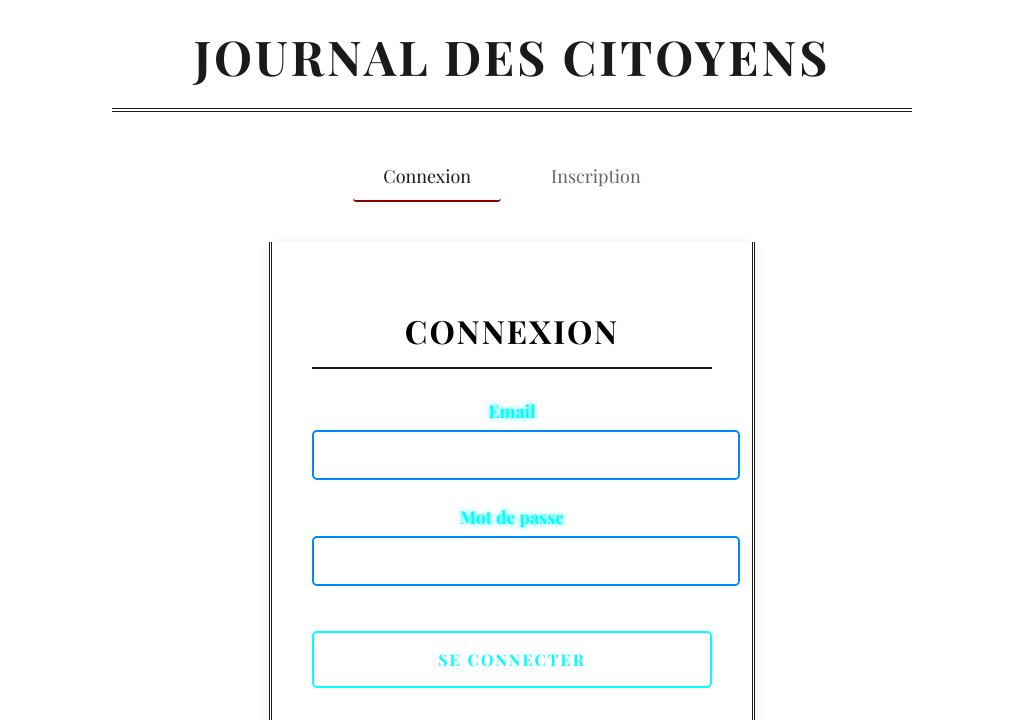
Test: AuthPage › switches back to LoginForm when Connexion tab is clicked
The image size is (1024, 720).
Click the button "Inscription" at [596, 177], box [521,152,671,202]
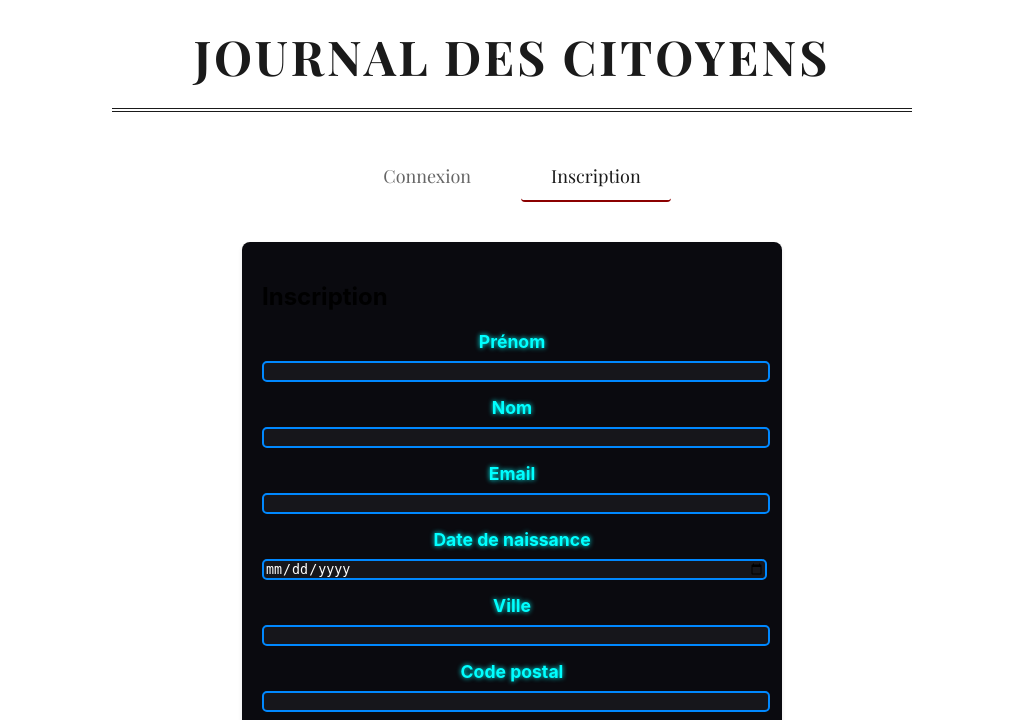
Click the button "Connexion" at [427, 177], box [353,152,501,202]
(page scrolled)
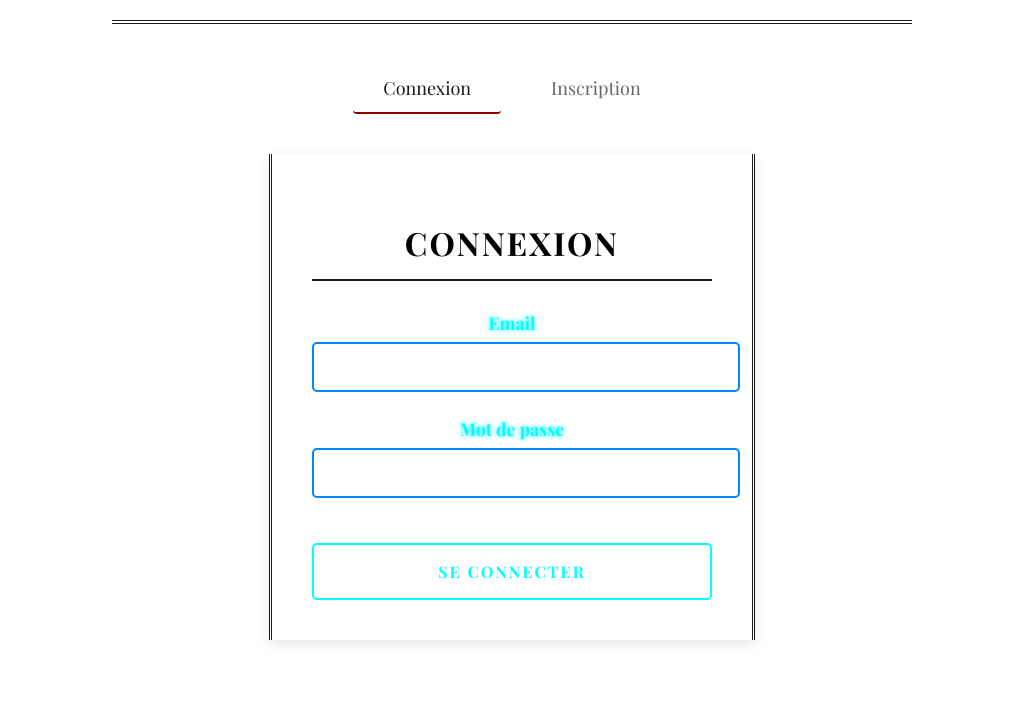
Check: the form with test id "login-form" is shown, box [269,154,755,640]
